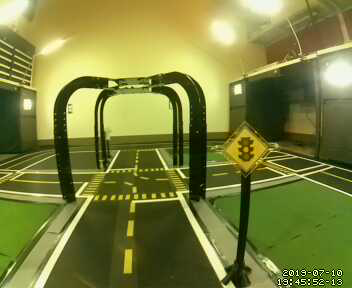Traffic light sign: (226, 126, 269, 173)
